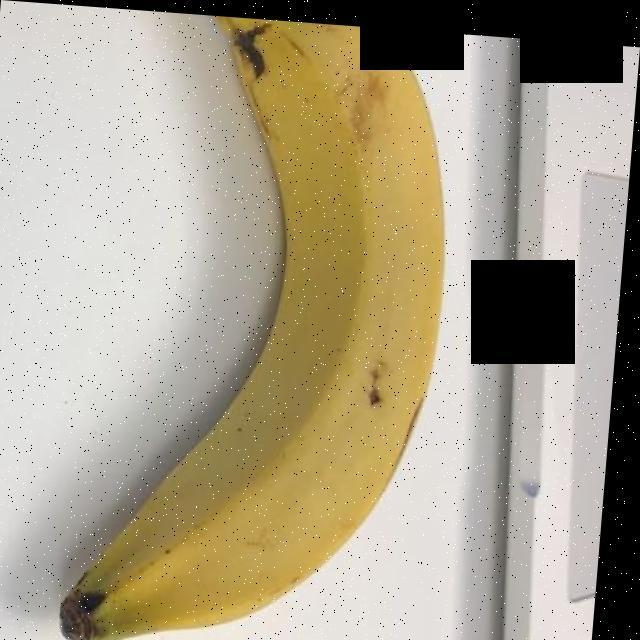banana: (83, 32, 423, 640)
